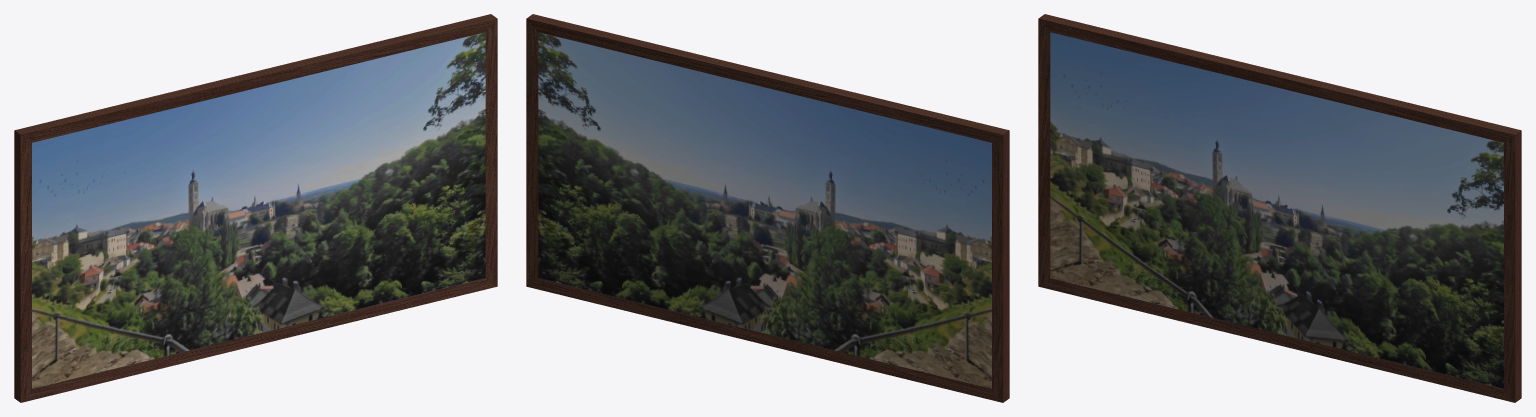
The model's file is Painting_5.fbx.
The picture shows the model from 3 angles, left to right: view 1: azimuth 30°, elevation 25°; view 2: azimuth 150°, elevation 25°; view 3: azimuth 330°, elevation 25°; orthographic projection.
Parts seen in each view (by area): view 1: Painting_5; view 2: Painting_5; view 3: Painting_5.
Boxes of the visible parts, x1,y1,x2,y2 form: Painting_5: (14, 14, 497, 402); Painting_5: (526, 14, 1009, 402); Painting_5: (1038, 14, 1521, 402).
Size of the model in its own units: 169 by 90.82 by 3.88.
